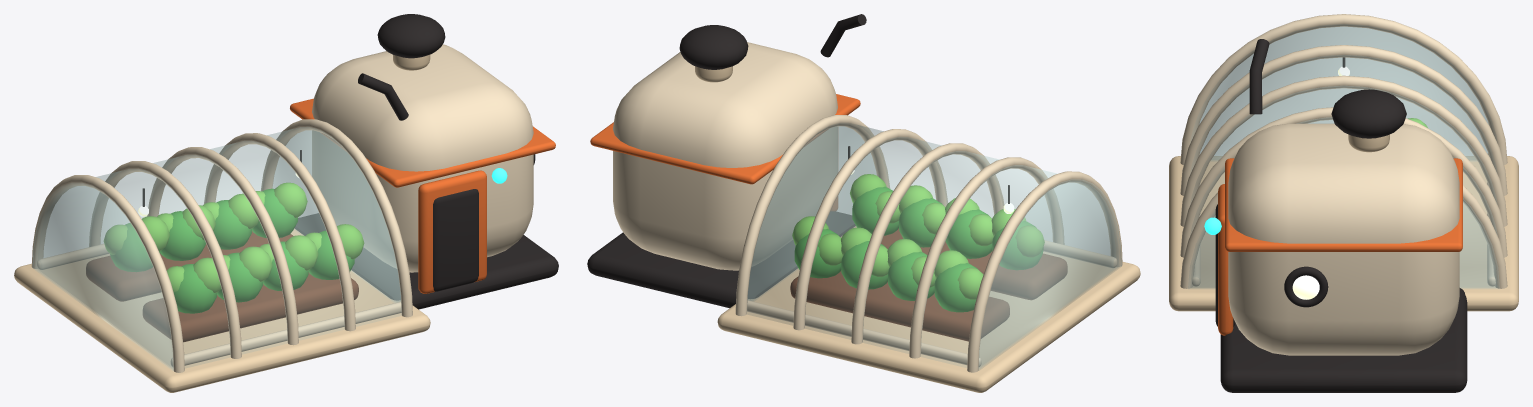
The model's file is greenhouse-1.glb.
3 renders of one model, left to right at view 1: azimuth 30°, elevation 25°; view 2: azimuth 150°, elevation 25°; view 3: azimuth 270°, elevation 25°, orthographic. The views are drawn at different scales.
Visible parts, largest first — view 1: Cylinder, Cube.001, Cube, Cube.005, Sphere, Cube.003, Sphere.001, Cube.007; view 2: Cube.001, Cylinder, Cube, Cube.005, Sphere, Cube.003, Sphere.001, Cube.007; view 3: Cube.001, Cylinder, Cube.005, Cube, Cube.007, Cylinder.003.
Boxes of the visible parts, bbox=[...] form: Cylinder: bbox=[32, 127, 401, 370]; Cube.001: bbox=[31, 44, 533, 372]; Cube: bbox=[14, 54, 430, 392]; Cube.005: bbox=[142, 14, 558, 309]; Sphere: bbox=[110, 188, 354, 313]; Cube.003: bbox=[86, 231, 358, 342]; Sphere.001: bbox=[104, 182, 364, 292]; Cube.007: bbox=[290, 98, 555, 293]; Cube.001: bbox=[613, 42, 1122, 372]; Cylinder: bbox=[747, 123, 1121, 370]; Cube: bbox=[695, 66, 1140, 392]; Cube.005: bbox=[587, 14, 1009, 308]; Sphere: bbox=[794, 186, 1043, 312]; Cube.003: bbox=[790, 228, 1067, 341]; Sphere.001: bbox=[792, 174, 1044, 299]; Cube.007: bbox=[590, 94, 860, 210]; Cube.001: bbox=[1180, 14, 1507, 355]; Cylinder: bbox=[1188, 24, 1499, 288]; Cube.005: bbox=[1215, 39, 1467, 392]; Cube: bbox=[1169, 134, 1518, 311]; Cube.007: bbox=[1218, 158, 1462, 335]; Cylinder.003: bbox=[1292, 275, 1319, 299].
Bounding box in the file's own units: 2.14 × 1.14 × 1.39.
